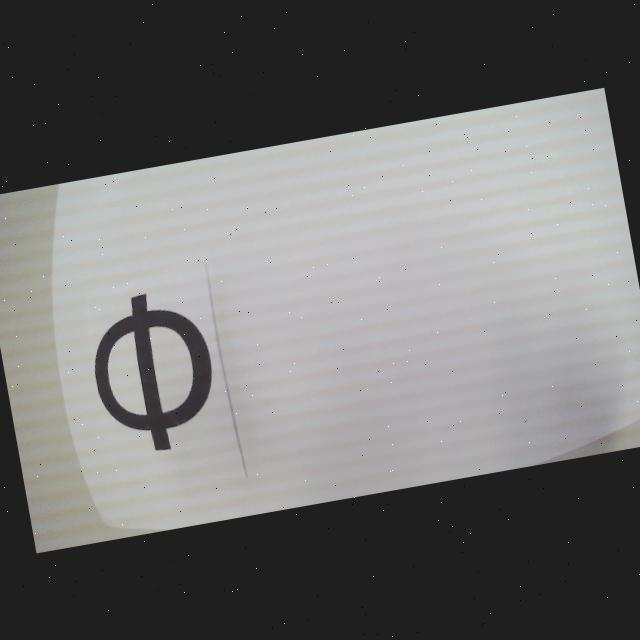PHI: (81, 283, 226, 460)
